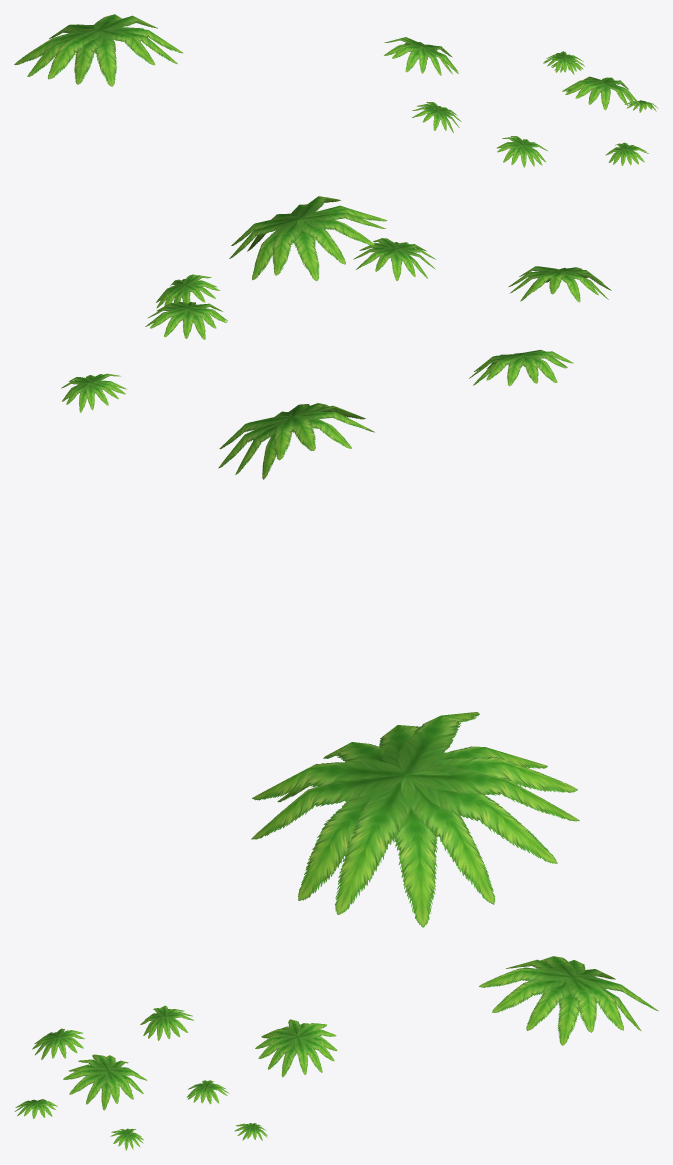
Rendered from PalmCrownIslandShape1.dae.
3 renders of one model, top to bottom at view 1: azimuth 30°, elevation 25°; view 2: azimuth 150°, elevation 25°; view 3: azimuth 270°, elevation 25°, orthographic. The views are drawn at different scales.
Visible parts, largest first — view 1: PalmCrownIsland1; view 2: PalmCrownIsland1; view 3: PalmCrownIsland1.
Part boxes in pixels (box(x1,y1,x2,y2)): PalmCrownIsland1: box(14, 14, 658, 167); PalmCrownIsland1: box(61, 196, 611, 927); PalmCrownIsland1: box(14, 956, 658, 1150).
Bounding box in the file's own units: 79.04 × 16.92 × 104.
